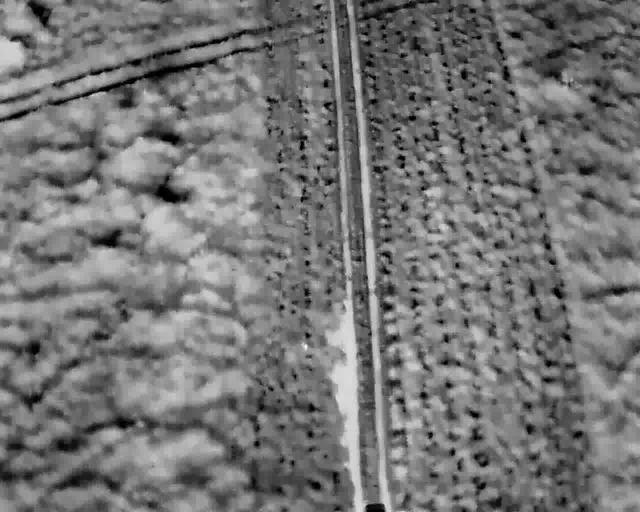car: (353, 386, 381, 453), (356, 495, 390, 510)
